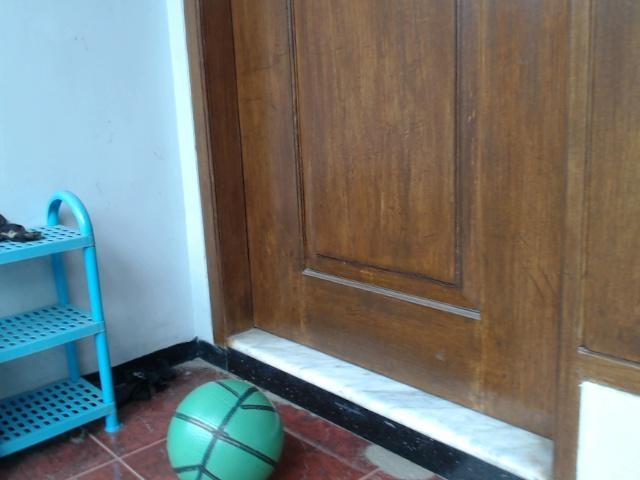Sports-Ball: (162, 387, 286, 480)
